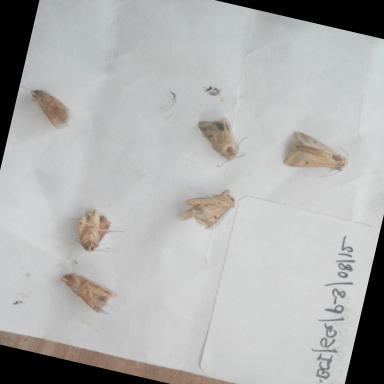abw: (273, 123, 365, 190), (168, 174, 251, 246), (52, 198, 136, 268), (11, 76, 91, 144), (184, 108, 260, 179), (47, 264, 130, 326)
